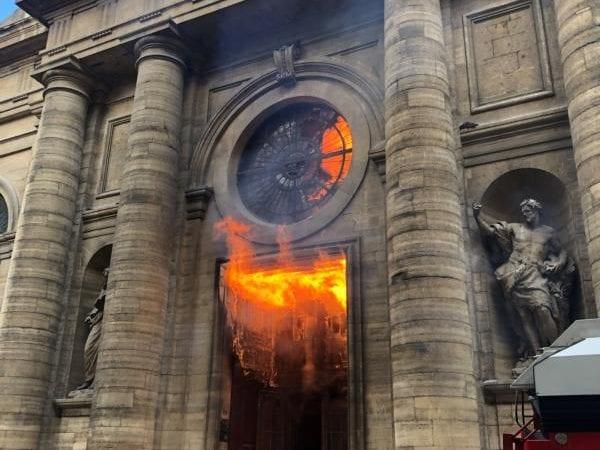Fire: (210, 107, 356, 360)
